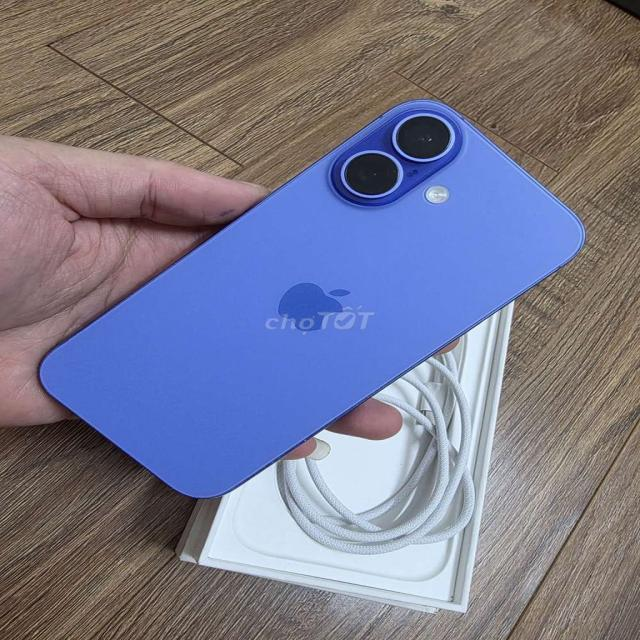gen_16: (39, 100, 584, 498)
